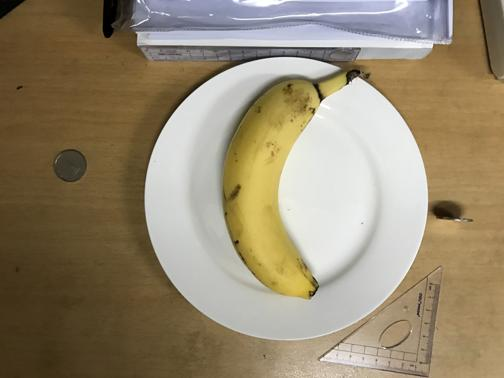banana: (225, 73, 342, 298)
coin: (51, 149, 88, 182)
